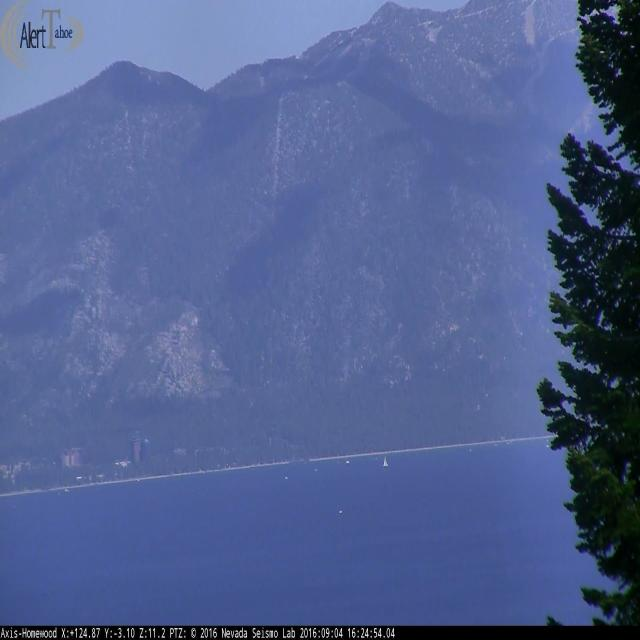smoke: (338, 358, 350, 384)
